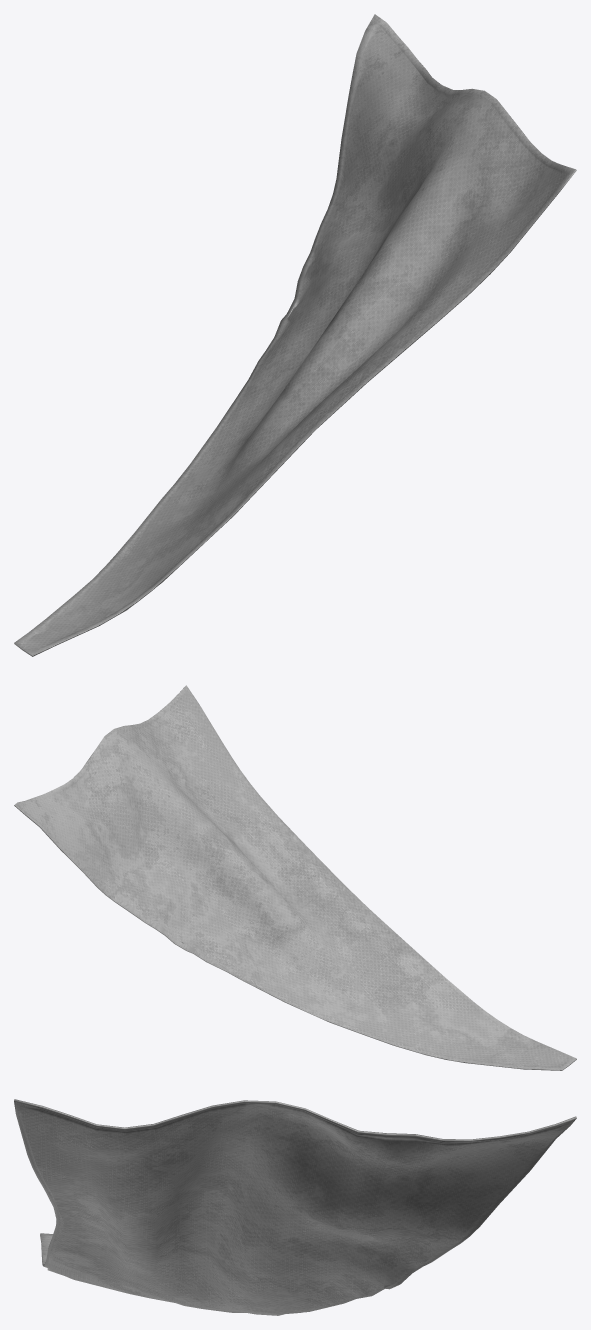
Rendered from SM_Fabric-TavernRainCover-B.fbx.
The picture shows the model from 3 angles, top to bottom: view 1: azimuth 30°, elevation 25°; view 2: azimuth 150°, elevation 25°; view 3: azimuth 270°, elevation 25°; orthographic projection. The views are drawn at different scales.
Visible parts, largest first — view 1: SM_Fabric-TavernRainCover-B_LOD0; view 2: SM_Fabric-TavernRainCover-B_LOD0; view 3: SM_Fabric-TavernRainCover-B_LOD0.
Part boxes in pixels (left/top/right/bottom): SM_Fabric-TavernRainCover-B_LOD0: left=14, top=14, right=576, bottom=656; SM_Fabric-TavernRainCover-B_LOD0: left=14, top=685, right=576, bottom=1070; SM_Fabric-TavernRainCover-B_LOD0: left=14, top=1099, right=576, bottom=1315.
Size of the model in its own units: 483 by 327 by 310.
2 materials, 2 textured.
